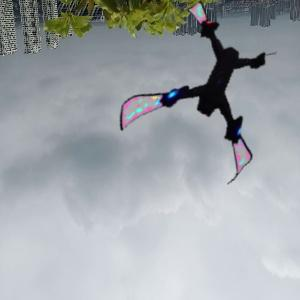drone: (133, 21, 291, 179)
